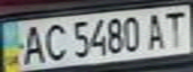0: (121, 12, 145, 53)
4: (87, 16, 109, 56)
5: (69, 18, 90, 60)
8: (106, 16, 127, 55)
A: (18, 23, 48, 66), (142, 10, 172, 51)
C: (39, 20, 69, 62)
T: (160, 8, 190, 48)
